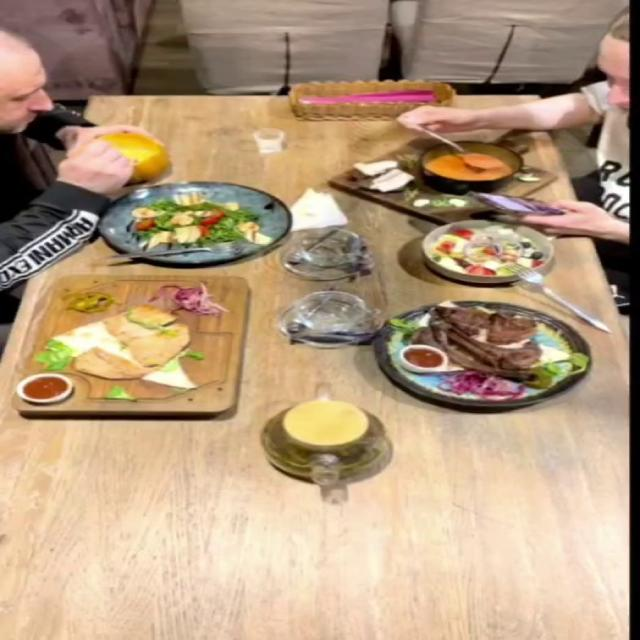alcohol: (238, 127, 292, 164)
meat: (371, 301, 594, 408)
salat: (96, 181, 290, 265), (421, 219, 556, 284)
soup: (326, 137, 561, 225), (56, 126, 210, 170)
tea: (282, 398, 369, 446)
